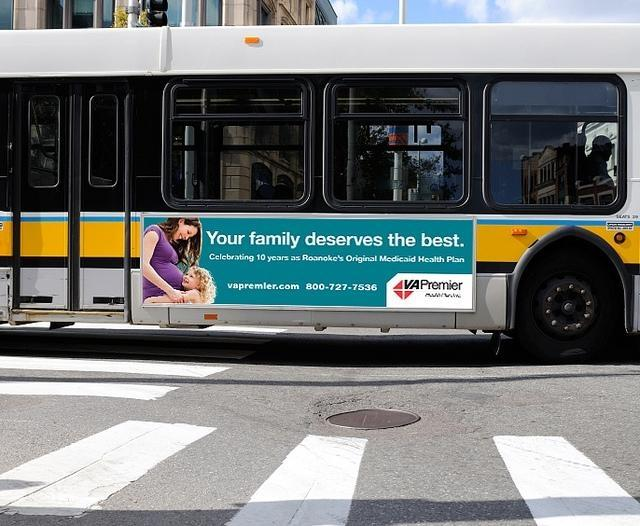bus: (0, 26, 640, 362)
